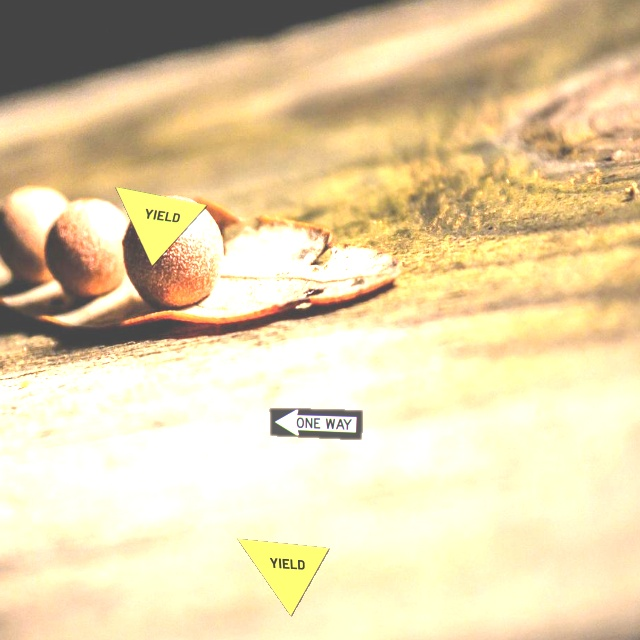ONE_WAY_ left: (269, 407, 363, 440)
YIELD: (114, 186, 208, 267), (236, 538, 330, 617)
